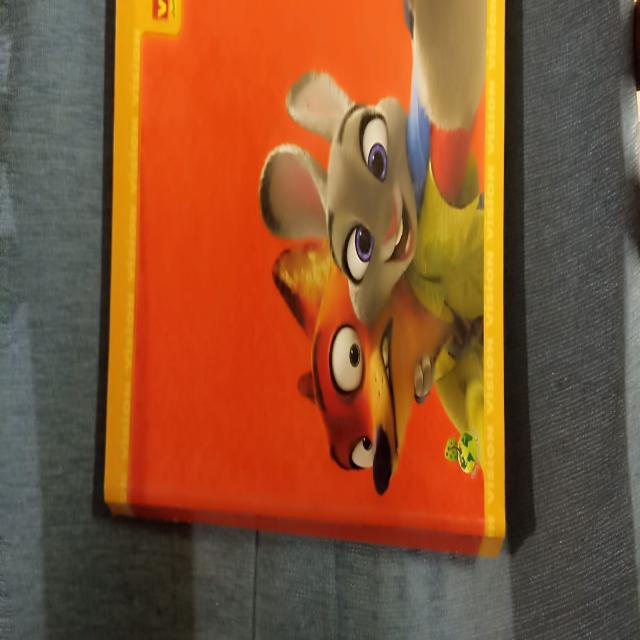book: (109, 0, 505, 536)
